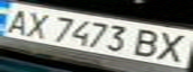3: (106, 21, 133, 54)
4: (66, 17, 93, 47)
7: (45, 14, 75, 44), (87, 20, 109, 50)
A: (0, 6, 36, 35)
B: (130, 26, 166, 59)
X: (151, 29, 193, 63), (18, 8, 54, 39)
